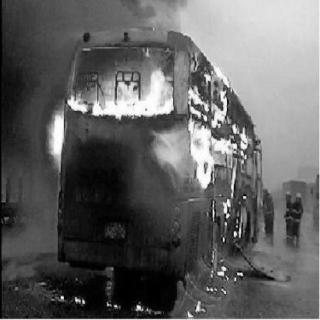Fire: (182, 199, 246, 293)
